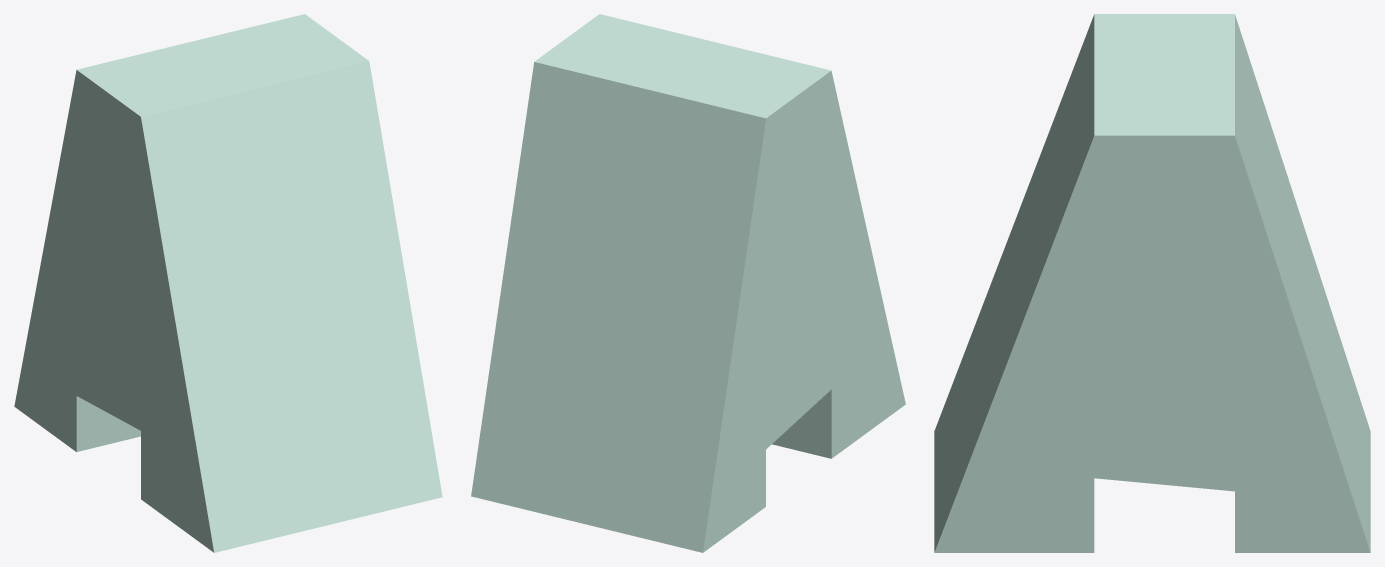
The picture shows the model from 3 angles, left to right: view 1: azimuth 30°, elevation 25°; view 2: azimuth 150°, elevation 25°; view 3: azimuth 270°, elevation 25°; orthographic projection. The views are drawn at different scales.
Parts seen in each view (by area): view 1: Renderer Node; view 2: Renderer Node; view 3: Renderer Node.
Boxes of the visible parts, left/top/right/bottom form: Renderer Node: left=14, top=14, right=442, bottom=552; Renderer Node: left=471, top=14, right=905, bottom=552; Renderer Node: left=934, top=14, right=1370, bottom=552.
Bounding box in the file's own units: 0.4688 × 0.75 × 0.7105.
